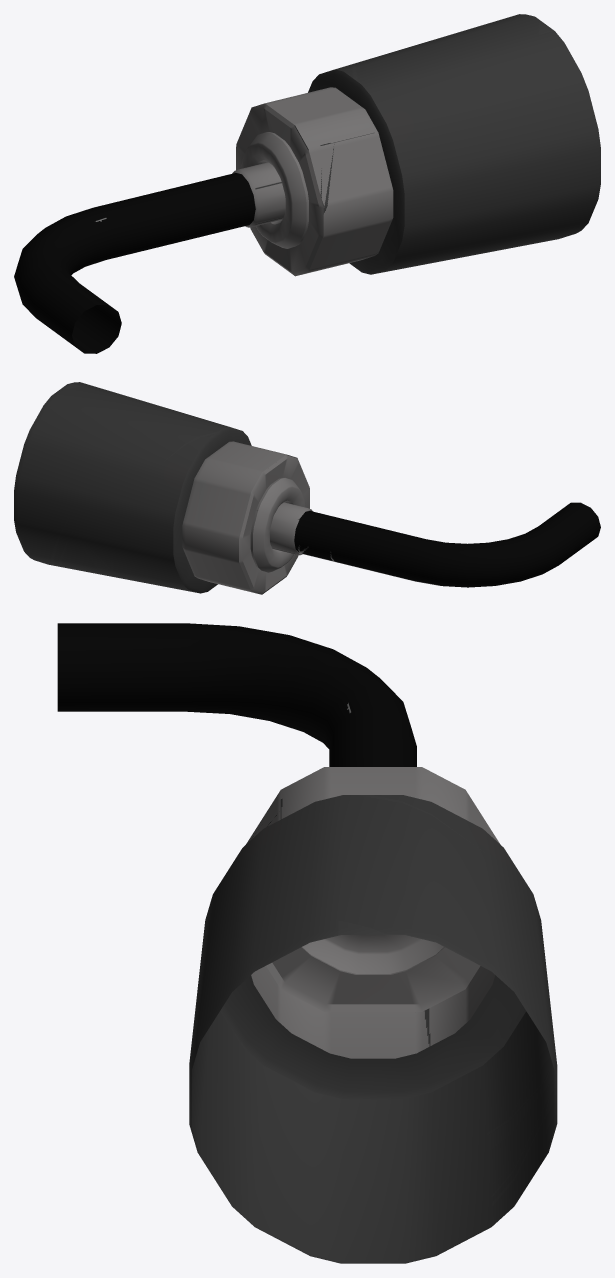
The model's file is base cable.fbx.
The picture shows the model from 3 angles, top to bottom: view 1: azimuth 30°, elevation 25°; view 2: azimuth 150°, elevation 25°; view 3: azimuth 270°, elevation 25°; orthographic projection. The views are drawn at different scales.
Visible parts, largest first — view 1: CABLE INICIO 1; view 2: CABLE INICIO 1; view 3: CABLE INICIO 1.
Boxes of the visible parts, x1,y1,x2,y2 form: CABLE INICIO 1: (14,14,600,353); CABLE INICIO 1: (14,382,600,594); CABLE INICIO 1: (57,623,557,1263).
Bounding box in the file's own units: 26.71 × 9.2 × 12.48.
